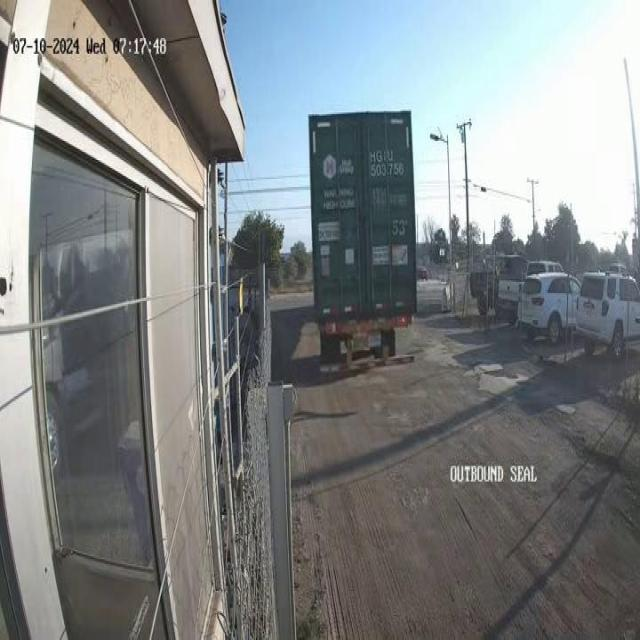TRUCK_OUT: (307, 108, 417, 355)
